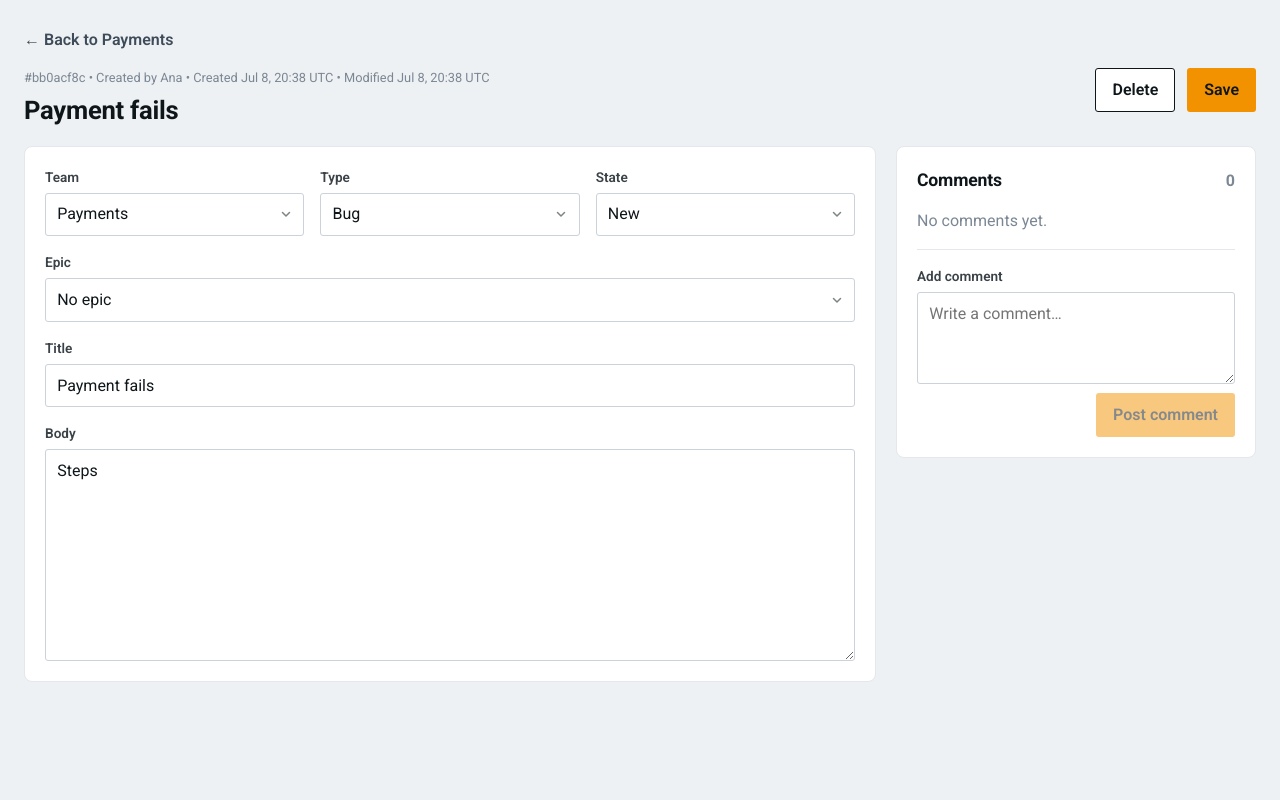
Test: App — ticket comments (full path) › shows a posted comment on the ticket detail screen
The image size is (1280, 800).
Expected: the heading "Payment fails" is shown, [24,95,178,125]
Type "Reproduced." into the text box labelled "Add comment". click: coordinates (1076, 338)
box: [917,292,1235,384]
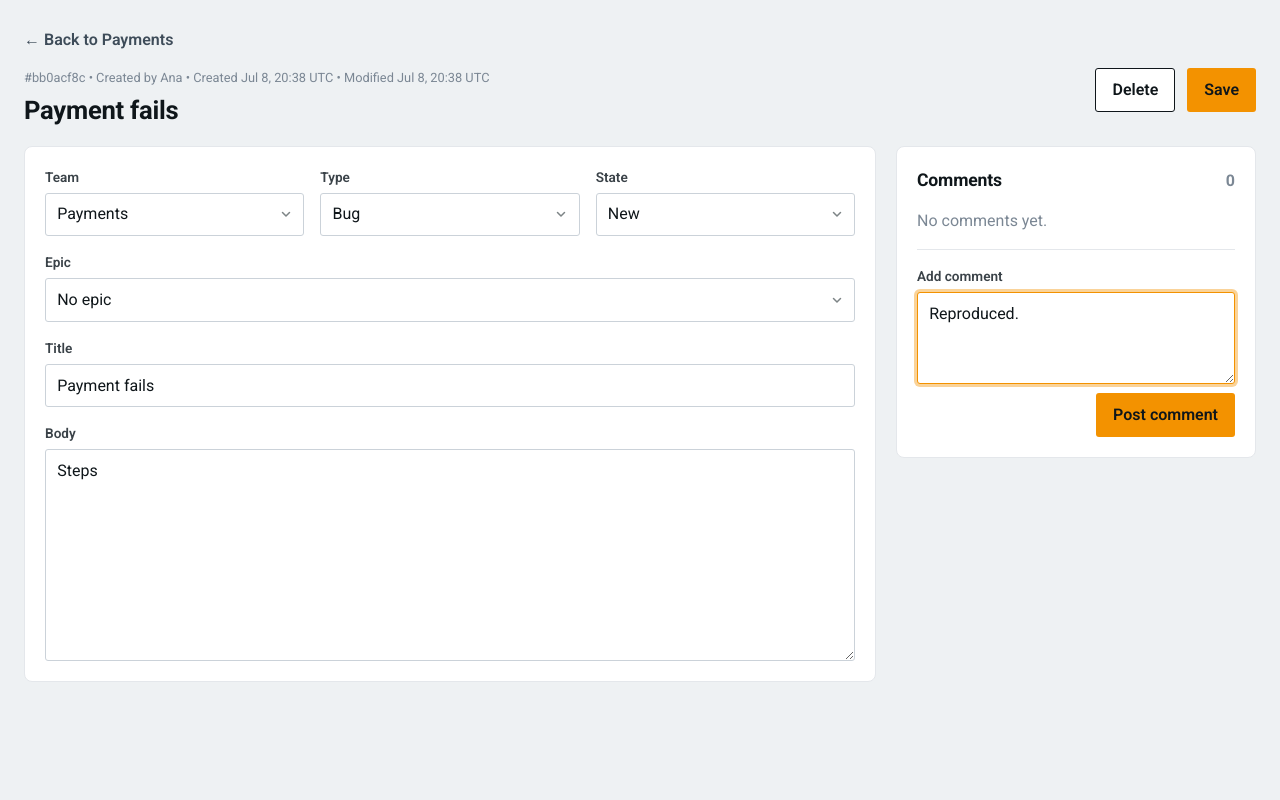
Click the button "Post comment". click: coordinates (1166, 415)
box: [1096,393,1235,437]
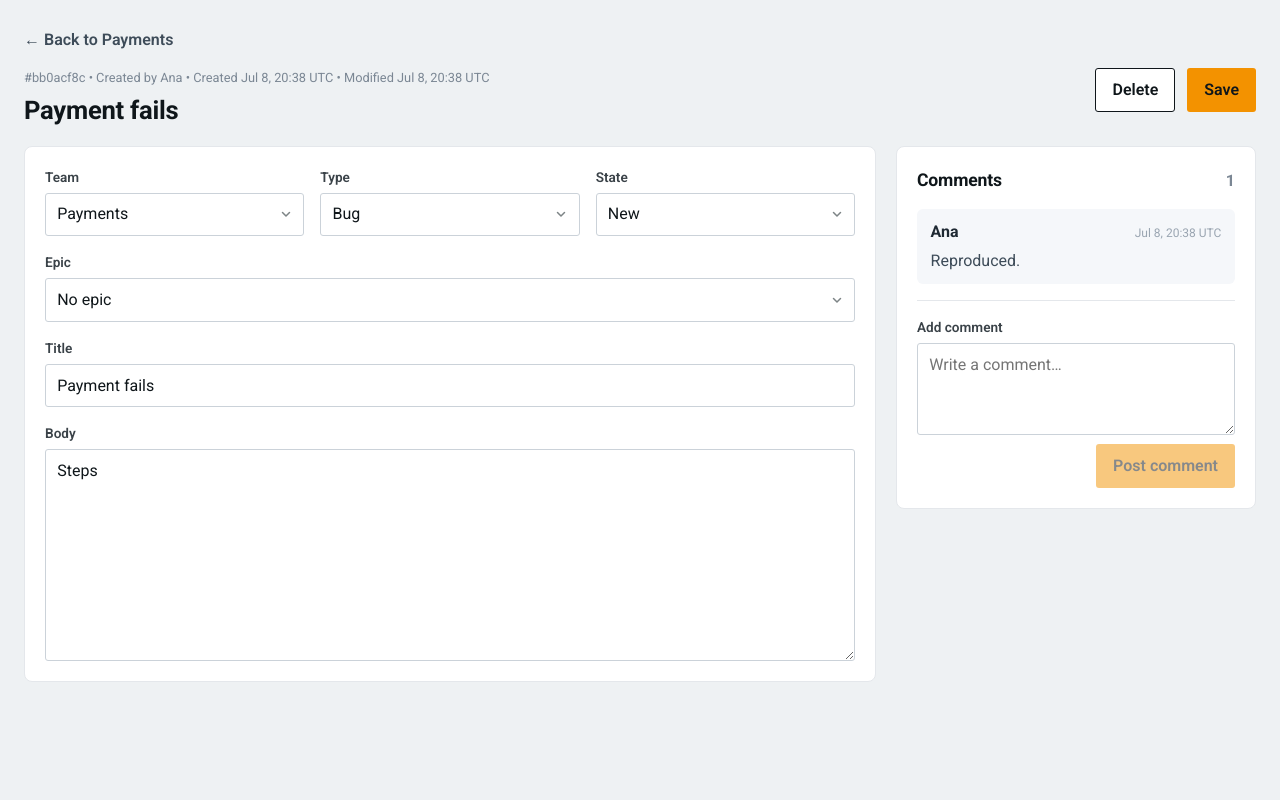
Expected: the text "Reproduced." is shown, [931,251,1020,270]
